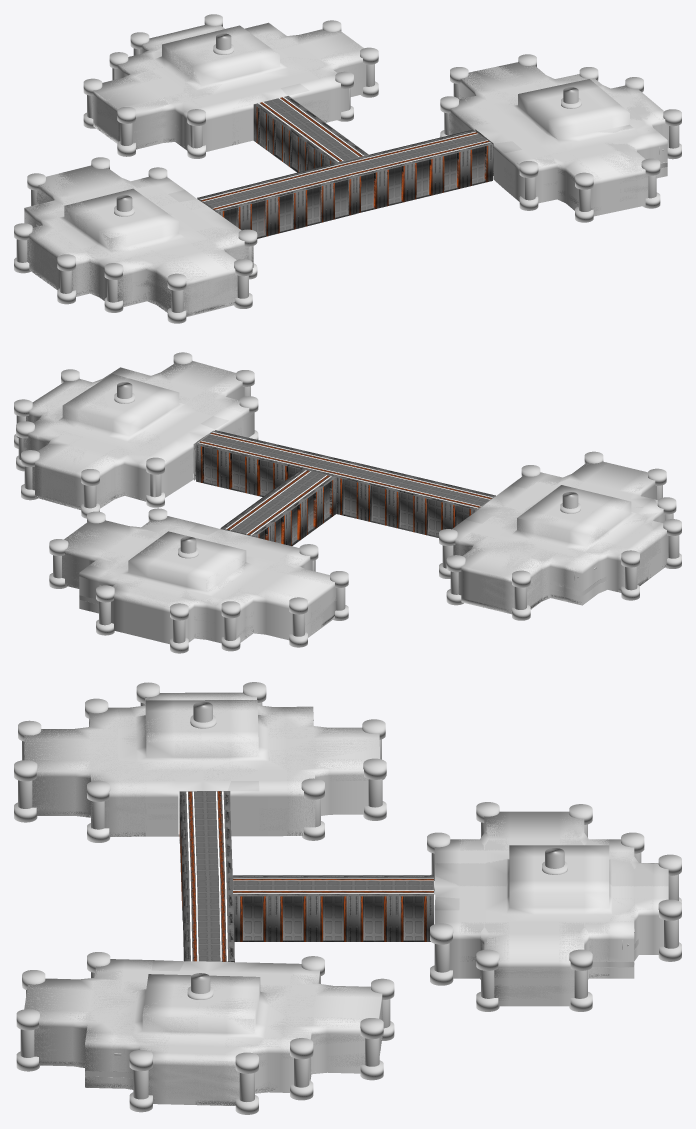
File: Safety.glb
3 renders of one model, top to bottom at view 1: azimuth 30°, elevation 25°; view 2: azimuth 150°, elevation 25°; view 3: azimuth 270°, elevation 25°, orthographic. The views are drawn at different scales.
Parts seen in each view (by area): view 1: Cube.013, Cube.024, Cube.027, Cube.023, Cube.005, Cube.007, Cube.016, Cube, Cube.026; view 2: Cube.013, Cube.027, Cube.024, Cube.023, Cube.007, Cube.005, Cube.026, Cube, Cube.016; view 3: Cube.024, Cube.027, Cube.013, Cube.026, Cube, Cube.023, Cube.016, Cube.007, Cube.005.
Boxes of the visible parts, left/top/right/bottom form: Cube.013: left=91, top=23, right=366, bottom=151; Cube.024: left=24, top=165, right=253, bottom=316; Cube.027: left=449, top=62, right=668, bottom=216; Cube.023: left=25, top=168, right=253, bottom=316; Cube.005: left=334, top=129, right=493, bottom=213; Cube.007: left=197, top=163, right=355, bottom=238; Cube.016: left=91, top=23, right=366, bottom=148; Cube: left=253, top=96, right=368, bottom=172; Cube.026: left=449, top=66, right=667, bottom=211; Cube.013: left=62, top=516, right=336, bottom=644; Cube.027: left=23, top=361, right=254, bottom=509; Cube.024: left=452, top=461, right=668, bottom=613; Cube.023: left=453, top=462, right=668, bottom=614; Cube.007: left=336, top=462, right=495, bottom=537; Cube.005: left=195, top=430, right=355, bottom=496; Cube.026: left=23, top=361, right=253, bottom=509; Cube: left=220, top=469, right=336, bottom=545; Cube.016: left=62, top=519, right=336, bottom=638; Cube.024: left=24, top=692, right=379, bottom=836; Cube.027: left=24, top=959, right=382, bottom=1105; Cube.013: left=434, top=811, right=668, bottom=1006; Cube.026: left=25, top=959, right=382, bottom=1105; Cube: left=233, top=875, right=433, bottom=941; Cube.023: left=24, top=692, right=379, bottom=836; Cube.016: left=434, top=819, right=668, bottom=1000; Cube.007: left=179, top=791, right=232, bottom=921; Cube.005: left=183, top=875, right=234, bottom=962.
Bounding box in the file's own units: 2545 × 313 × 1889.
26 materials, 12 textured.
